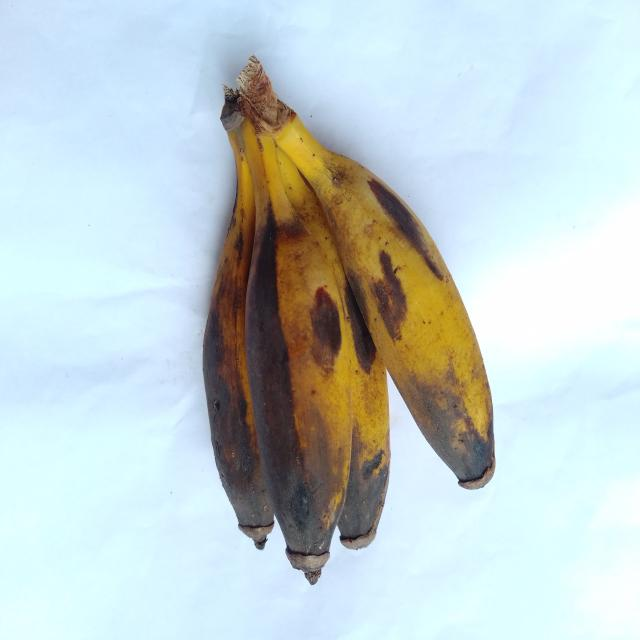banana: (238, 58, 494, 488), (243, 119, 351, 583), (278, 149, 389, 549), (204, 91, 273, 549)
